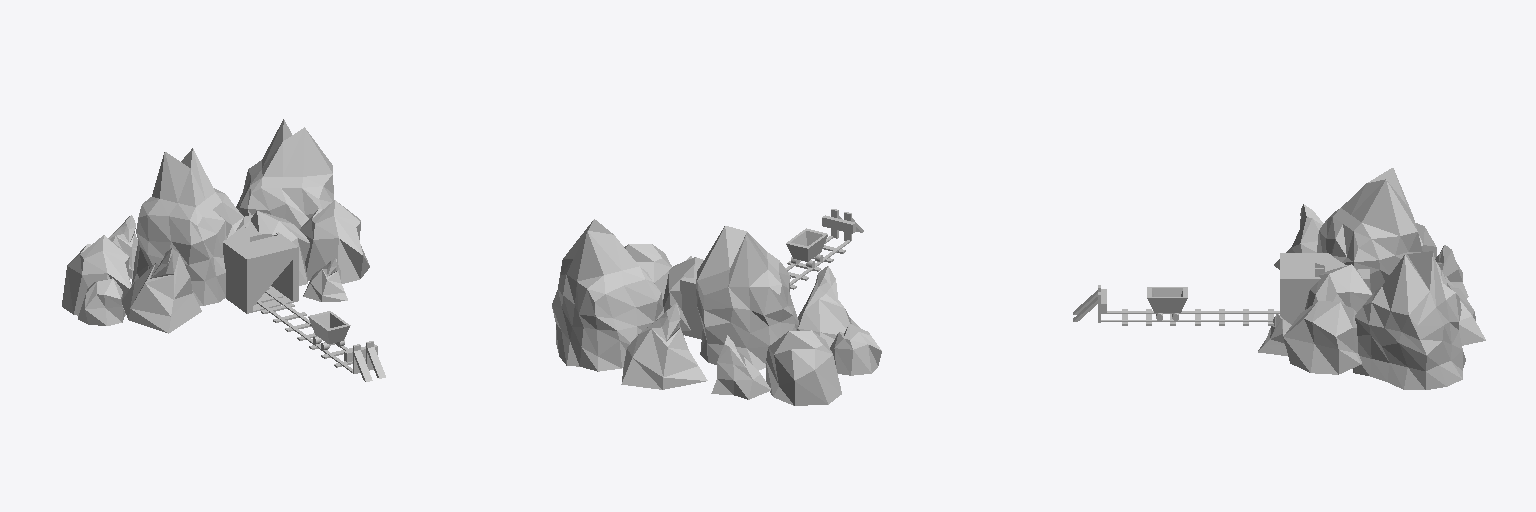
The model's file is Mine.obj.
3 views of the same model, side by side, from view 1: azimuth 30°, elevation 25°; view 2: azimuth 150°, elevation 25°; view 3: azimuth 270°, elevation 25° (orthographic).
Visible parts, largest first — view 1: Cube.001_Cube.003, Cube.004_Cube.014, Cube.010_Cube.020, Cube_Cube.001, Cube.003_Cube.013, Cube.006_Cube.016, Cube.008_Cube.018, Cube.002_Cube.012, Cube.007_Cube.004, Cube.019_Cube.030, Cube.009_Cube.005, Cube.011_Cube.021; view 2: Cube.004_Cube.014, Cube.001_Cube.003, Cube.006_Cube.016, Cube.005_Cube.002, Cube_Cube.001, Cube.009_Cube.005, Cube.008_Cube.018, Cube.003_Cube.013, Cube.002_Cube.012, Cube.019_Cube.030, Cube.010_Cube.020; view 3: Cube.004_Cube.014, Cube.001_Cube.003, Cube.003_Cube.013, Cube.010_Cube.020, Cube.002_Cube.012, Cube_Cube.001, Cube.005_Cube.002, Cube.019_Cube.030, Cube.007_Cube.004, Cube.009_Cube.005.
Boxes of the visible parts, <box> form: Cube.001_Cube.003: <box>132,148,243,305</box>; Cube.004_Cube.014: <box>236,119,333,229</box>; Cube.010_Cube.020: <box>223,214,298,313</box>; Cube_Cube.001: <box>122,248,201,333</box>; Cube.003_Cube.013: <box>300,200,369,283</box>; Cube.006_Cube.016: <box>62,235,131,315</box>; Cube.008_Cube.018: <box>78,278,125,325</box>; Cube.002_Cube.012: <box>244,211,309,285</box>; Cube.007_Cube.004: <box>303,257,347,301</box>; Cube.019_Cube.030: <box>308,311,350,343</box>; Cube.009_Cube.005: <box>108,215,137,278</box>; Cube.011_Cube.021: <box>255,287,365,367</box>; Cube.004_Cube.014: <box>552,219,663,371</box>; Cube.001_Cube.003: <box>696,226,798,370</box>; Cube.006_Cube.016: <box>766,330,841,405</box>; Cube.005_Cube.002: <box>621,303,707,389</box>; Cube_Cube.001: <box>797,266,859,347</box>; Cube.009_Cube.005: <box>711,335,770,399</box>; Cube.008_Cube.018: <box>830,324,881,375</box>; Cube.003_Cube.013: <box>624,244,671,299</box>; Cube.002_Cube.012: <box>663,257,703,330</box>; Cube.019_Cube.030: <box>786,228,827,261</box>; Cube.010_Cube.020: <box>680,277,702,339</box>; Cube.004_Cube.014: <box>1353,251,1465,389</box>; Cube.001_Cube.003: <box>1317,168,1422,293</box>; Cube.003_Cube.013: <box>1283,301,1361,374</box>; Cube.010_Cube.020: <box>1280,253,1369,324</box>; Cube.002_Cube.012: <box>1305,264,1371,312</box>; Cube_Cube.001: <box>1274,204,1323,269</box>; Cube.005_Cube.002: <box>1436,262,1485,345</box>; Cube.019_Cube.030: <box>1147,287,1187,312</box>; Cube.007_Cube.004: <box>1258,314,1291,355</box>; Cube.009_Cube.005: <box>1435,245,1468,297</box>.
Bounding box in the file's own units: 10.13 × 4.87 × 12.69.